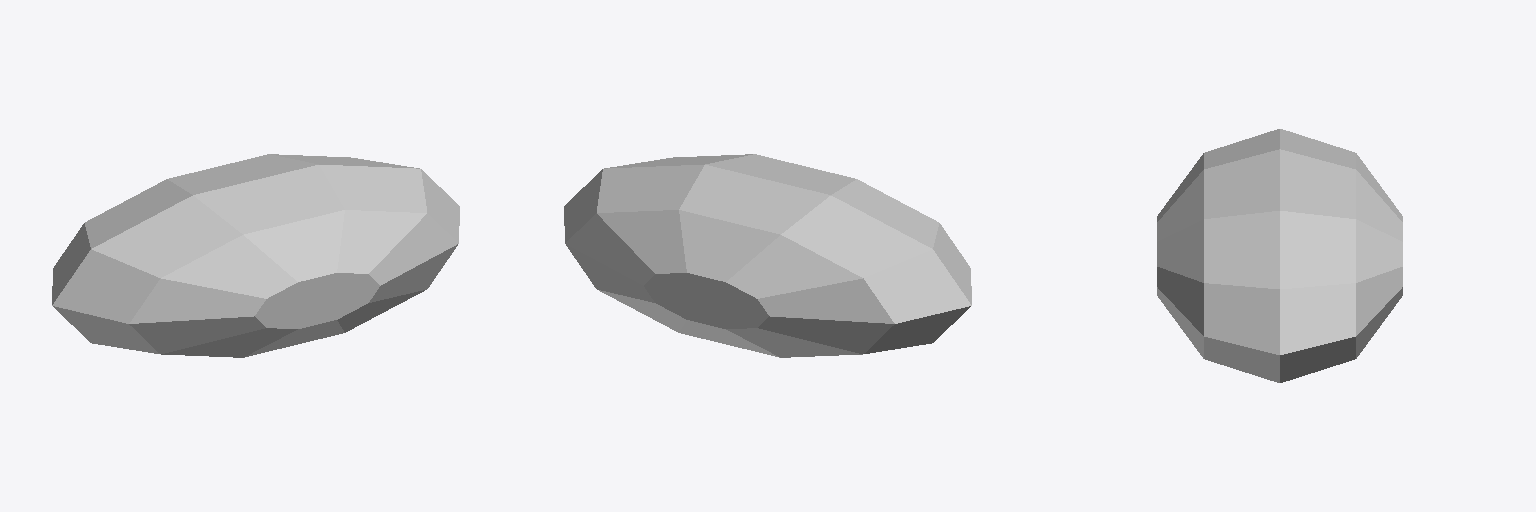
The model's file is airship-balloon.obj.
3 views of the same model, side by side, from view 1: azimuth 30°, elevation 25°; view 2: azimuth 150°, elevation 25°; view 3: azimuth 270°, elevation 25° (orthographic).
Parts seen in each view (by area): view 1: OpenSCAD_Model; view 2: OpenSCAD_Model; view 3: OpenSCAD_Model.
Part boxes in pixels (left/top/right/bottom): OpenSCAD_Model: left=52, top=154, right=459, bottom=357; OpenSCAD_Model: left=564, top=154, right=971, bottom=357; OpenSCAD_Model: left=1157, top=129, right=1402, bottom=382.
Bounding box in the file's own units: 80 × 28.53 × 41.85.